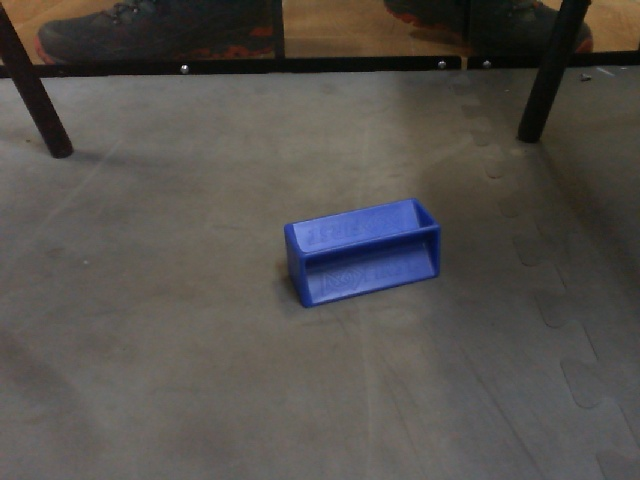BlueSample: (279, 195, 445, 312)
